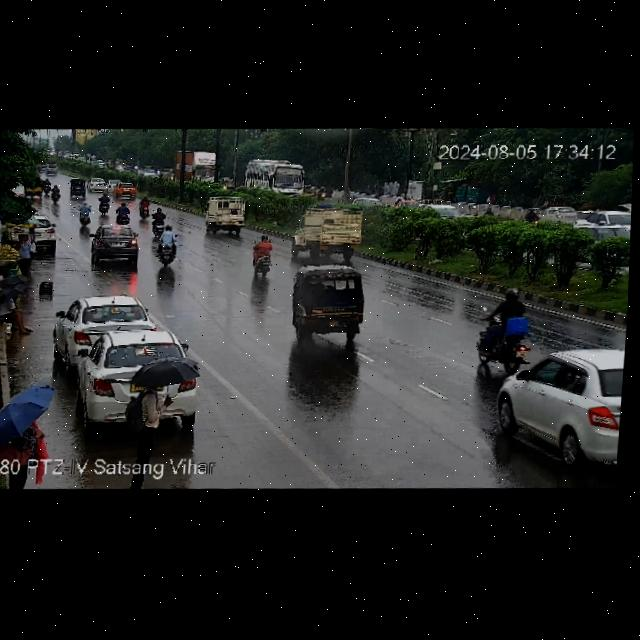bus: (241, 155, 308, 201)
car: (498, 344, 624, 477), (83, 337, 202, 427), (50, 294, 150, 366), (296, 265, 361, 339), (88, 226, 144, 266), (568, 224, 631, 255), (203, 196, 238, 241), (22, 214, 58, 251), (407, 202, 458, 227), (22, 172, 43, 199)
motorcycle: (473, 292, 533, 371), (154, 225, 184, 265), (250, 234, 276, 276), (149, 207, 170, 232), (74, 202, 94, 227), (526, 206, 543, 227), (115, 202, 130, 223)
person: (120, 380, 164, 487), (2, 398, 42, 488), (0, 289, 30, 336), (12, 231, 35, 282)
truck: (294, 201, 361, 263), (174, 148, 229, 189)
